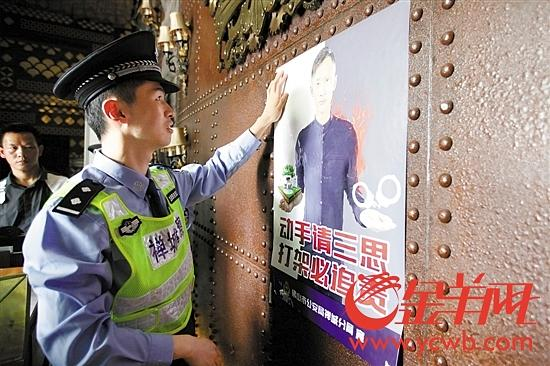bill: (271, 1, 410, 366)
